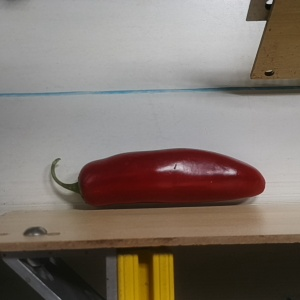Cut Point: (68, 161, 98, 208)
